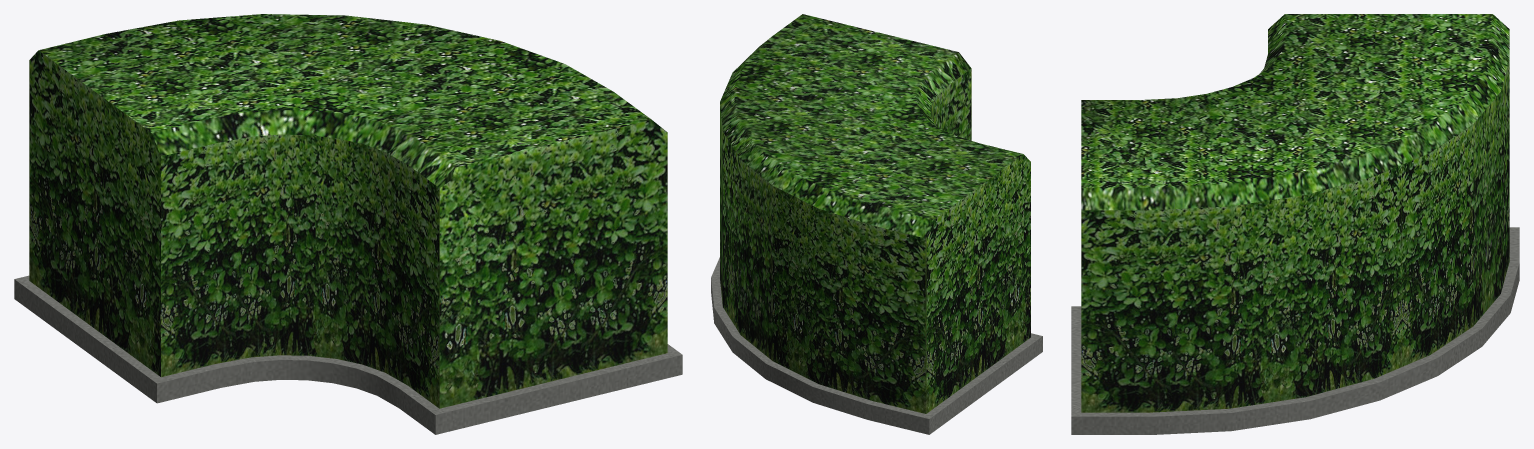
The picture shows the model from 3 angles, left to right: view 1: azimuth 30°, elevation 25°; view 2: azimuth 150°, elevation 25°; view 3: azimuth 270°, elevation 25°; orthographic projection. The views are drawn at different scales.
Parts seen in each view (by area): view 1: Line001, 图形002; view 2: Line001, 图形002; view 3: Line001, 图形002.
Part boxes in pixels (box(x1,y1,x2,y2)): Line001: box(29, 14, 667, 408); 图形002: box(14, 275, 682, 434); Line001: box(720, 14, 1030, 413); 图形002: box(711, 257, 1042, 434); Line001: box(1081, 14, 1509, 412); 图形002: box(1071, 227, 1519, 434).
Size of the model in its own units: 1.11 by 0.6461 by 1.11.
Materials: 3 (3 with a texture image).
